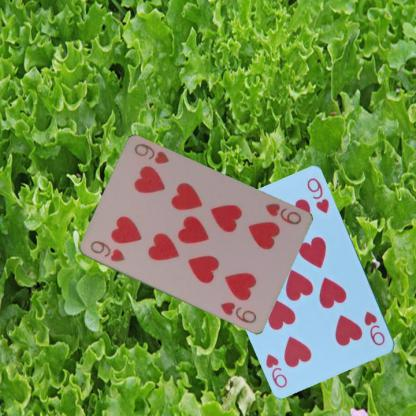9h: (261, 200, 302, 226), (87, 238, 126, 264), (362, 308, 386, 347)
